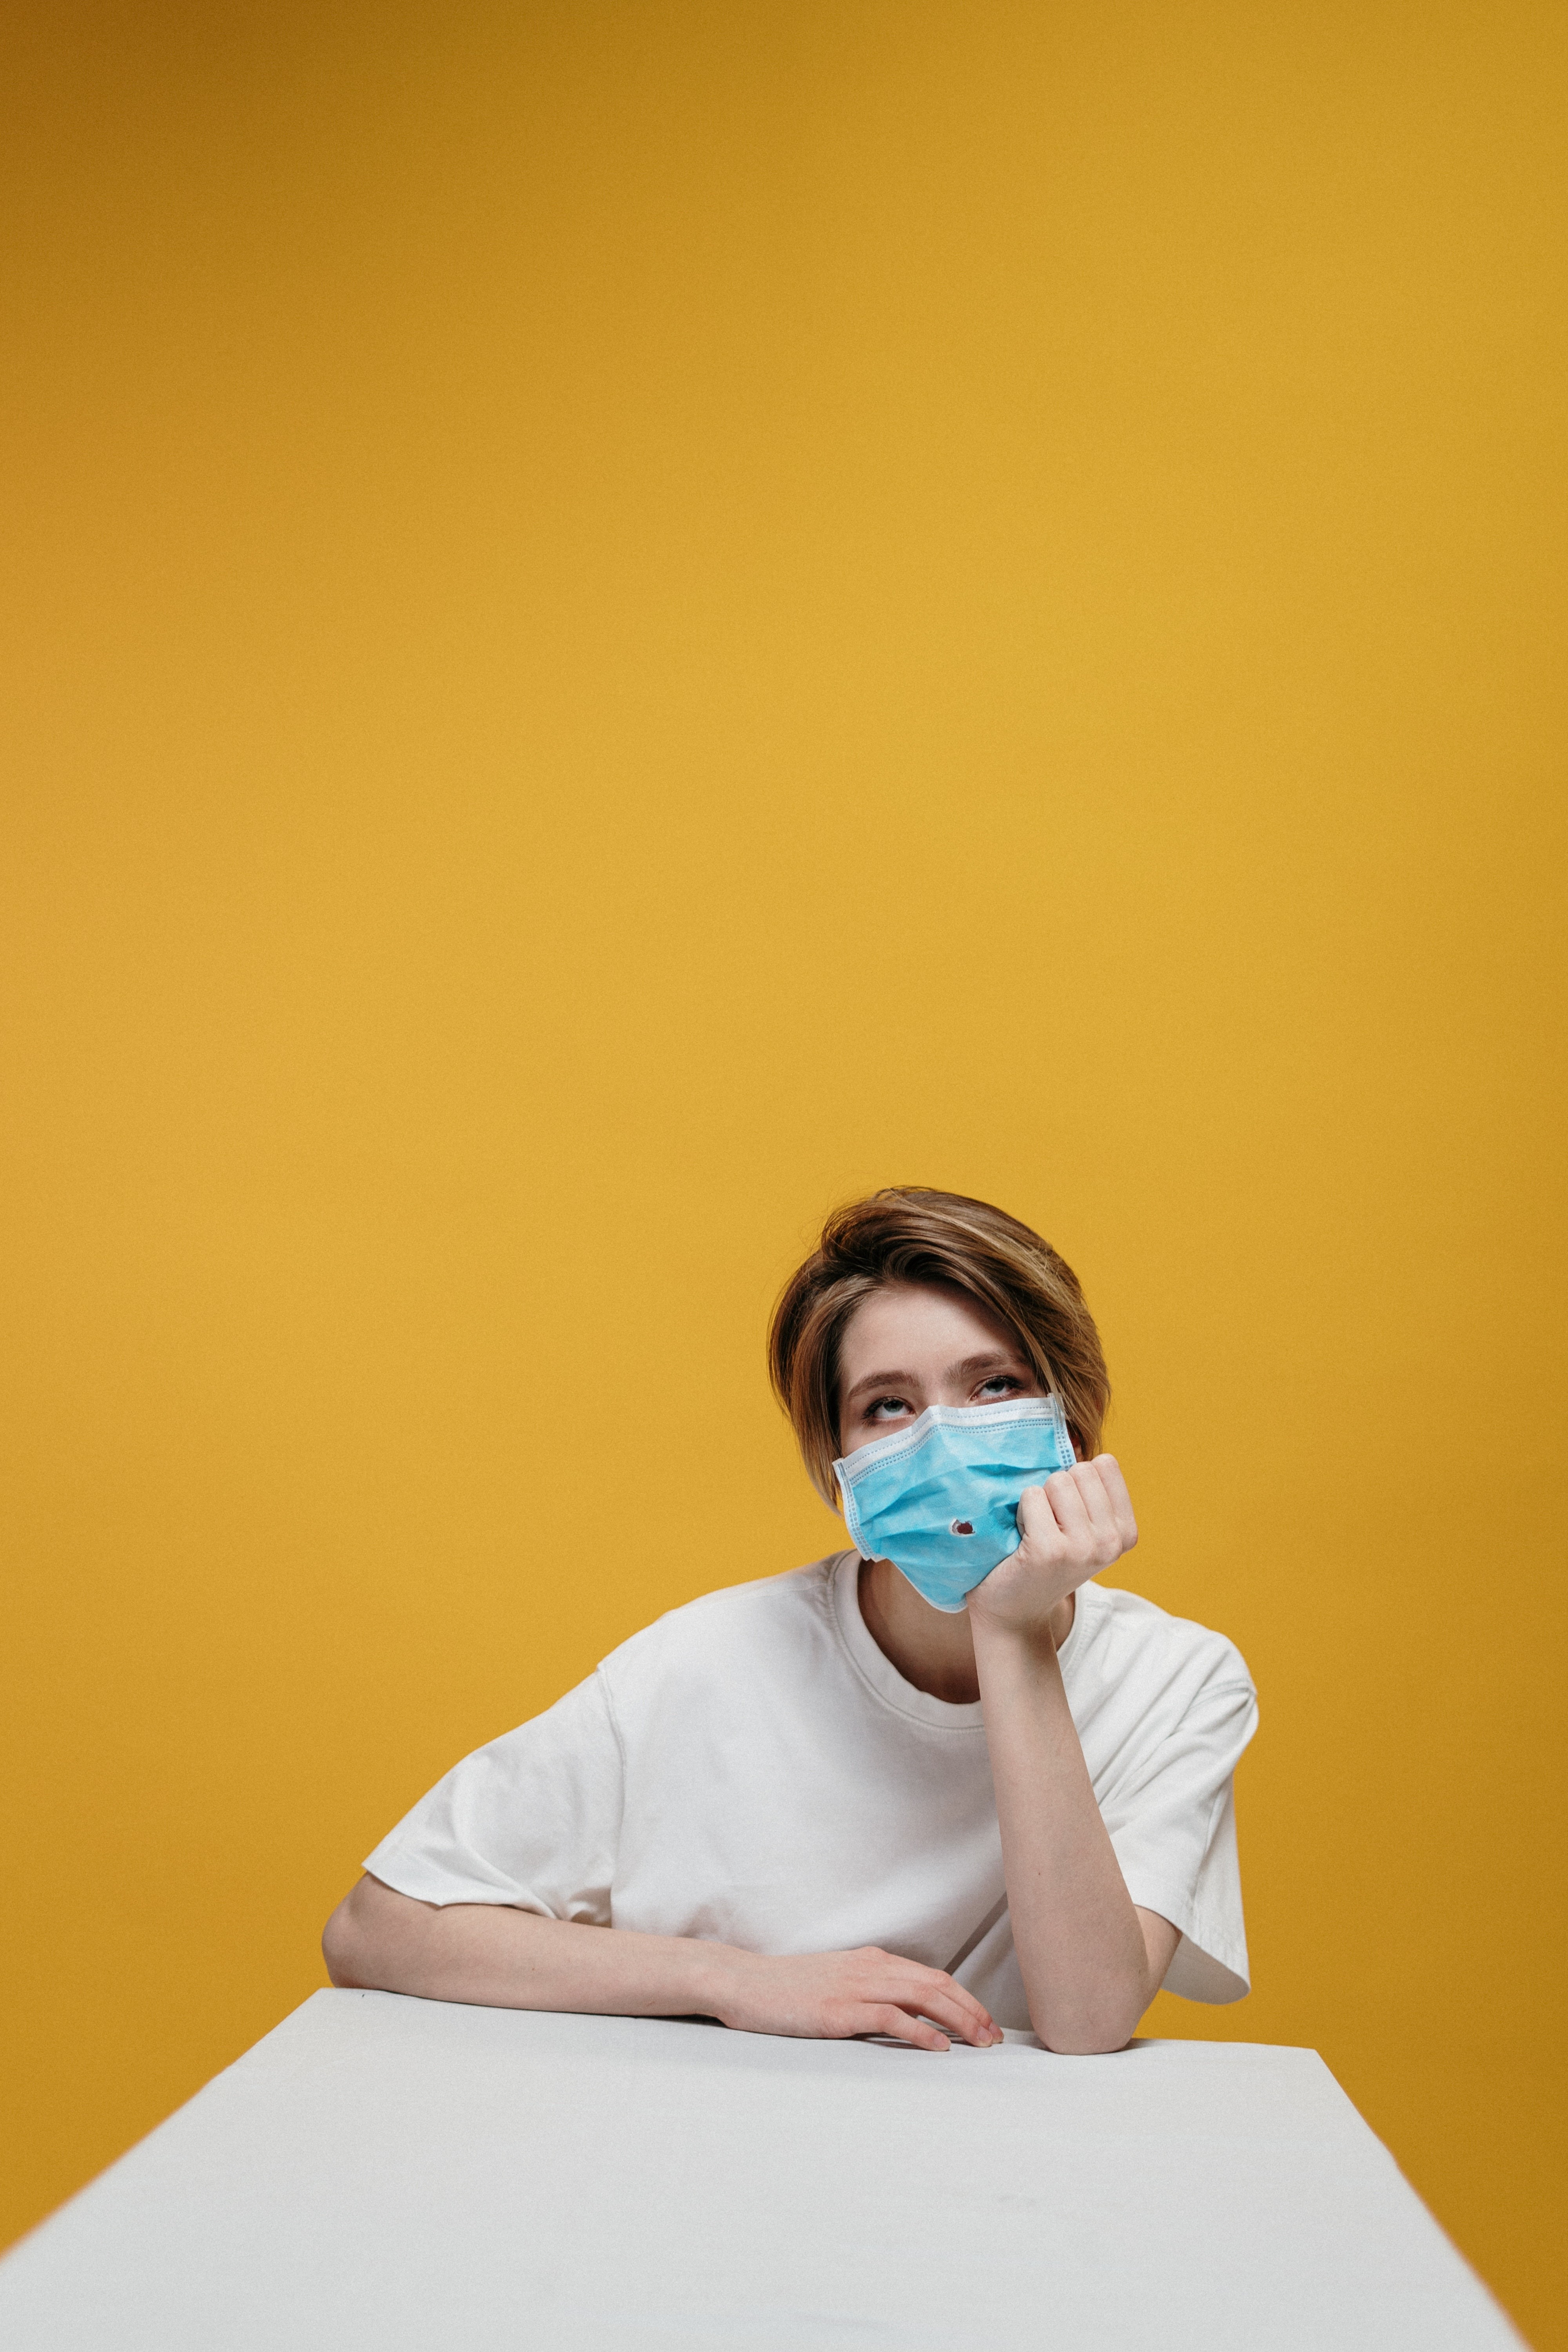face_with_mask: (767, 1174, 1120, 1616)
